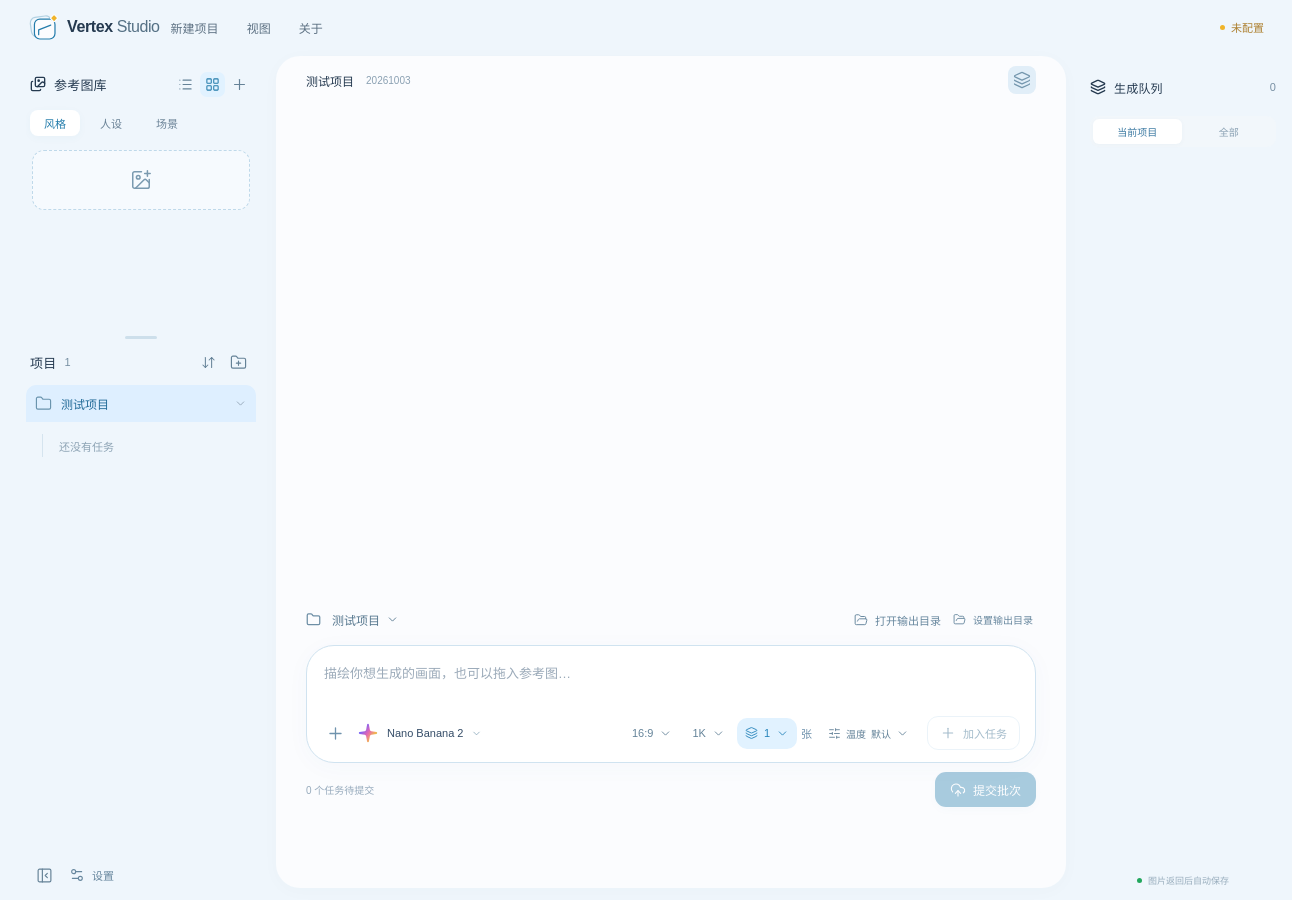
Test case: 侧栏收起后左下角保留展开入口
Check: the text "测试项目" below "参考图库" is shown, box left=61, top=398, right=109, bottom=412
Step 1. Click the button named "收起侧栏" → coordinates (44, 875), box left=30, top=861, right=58, bottom=889
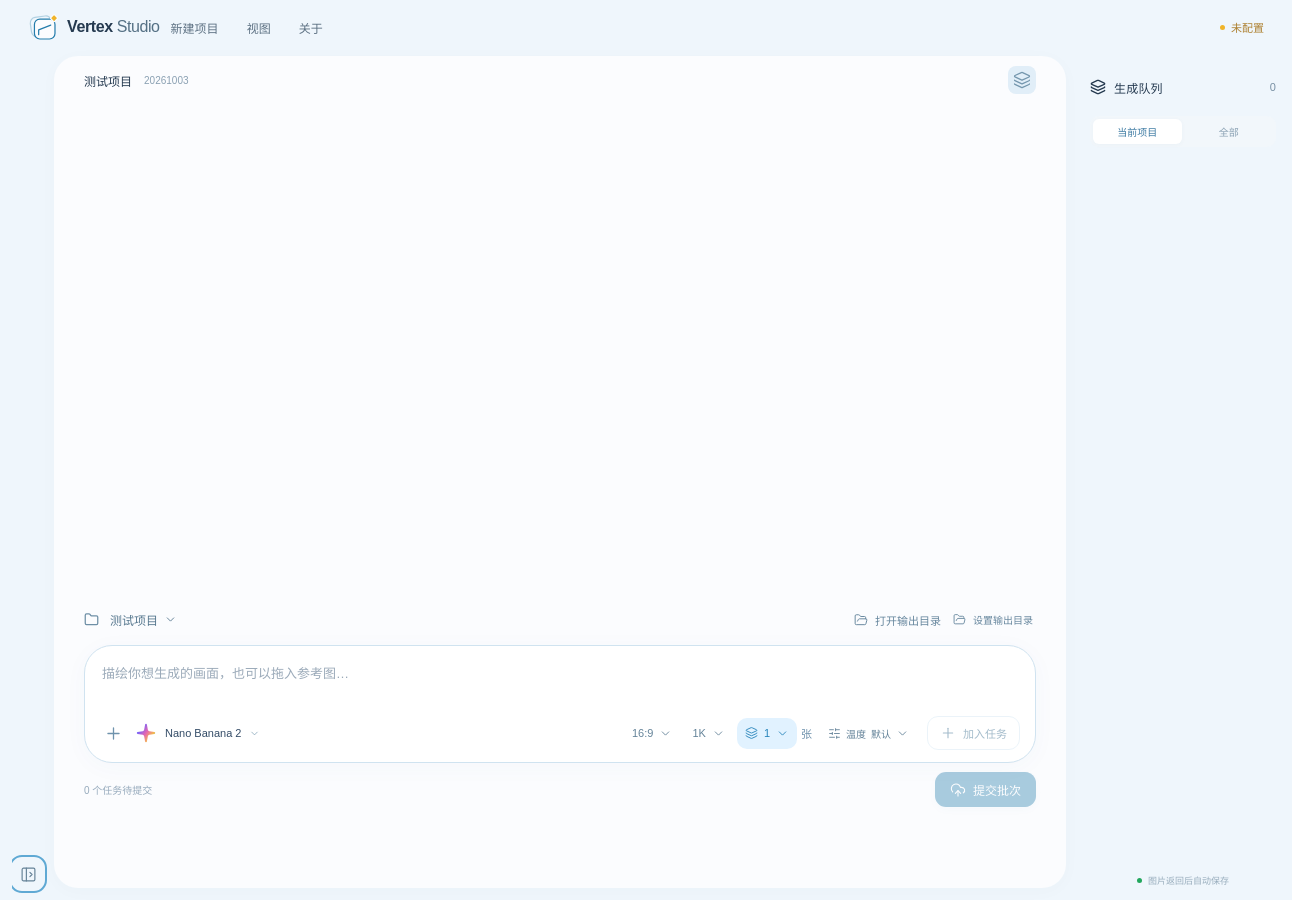
Check: the 4th element named "展开侧栏" is shown, box left=14, top=851, right=46, bottom=889
Step 2. Click the button named "展开侧栏" → coordinates (28, 874), box left=14, top=860, right=42, bottom=888
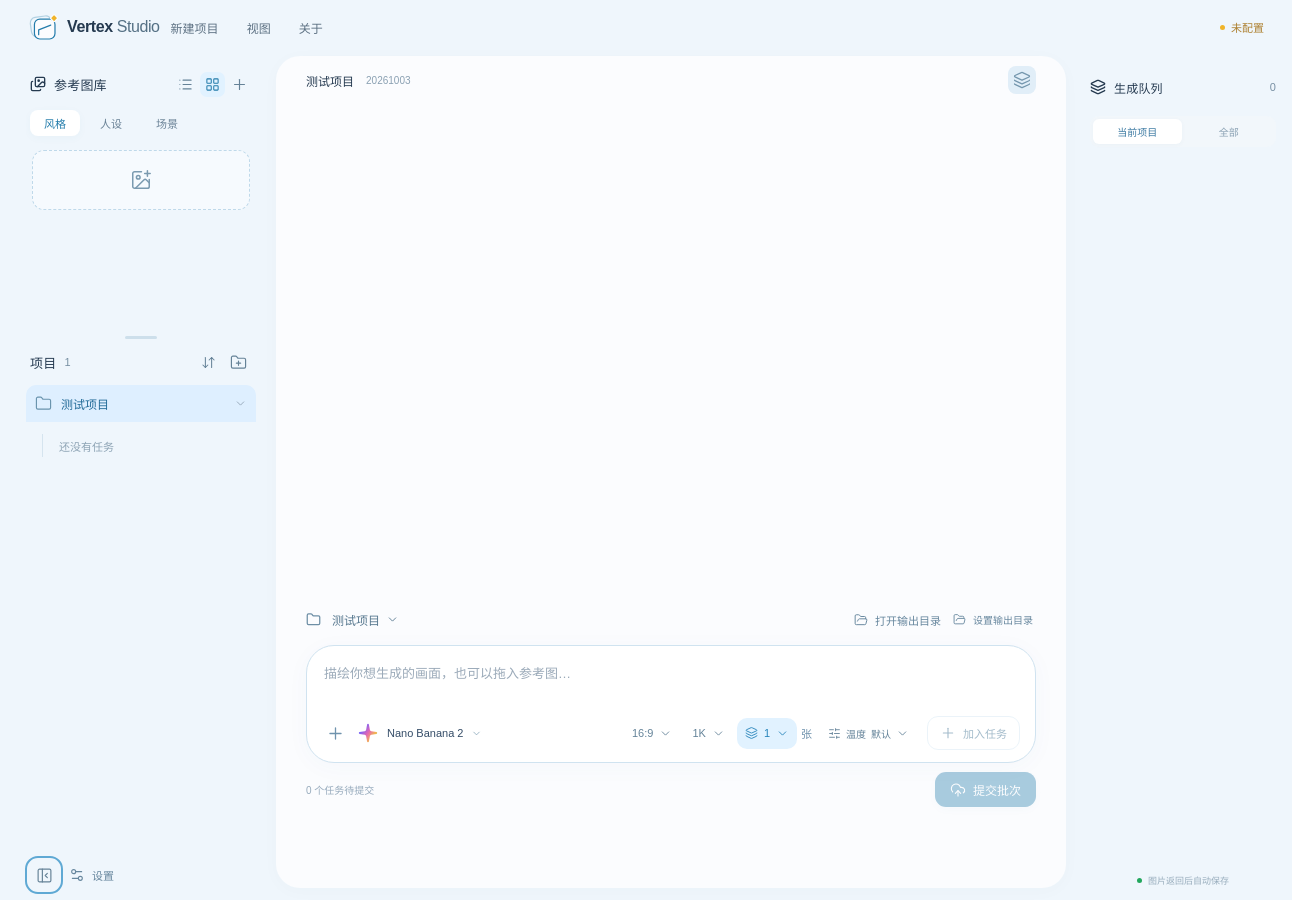
Check: the text "参考图库" is shown, box left=30, top=74, right=107, bottom=94
